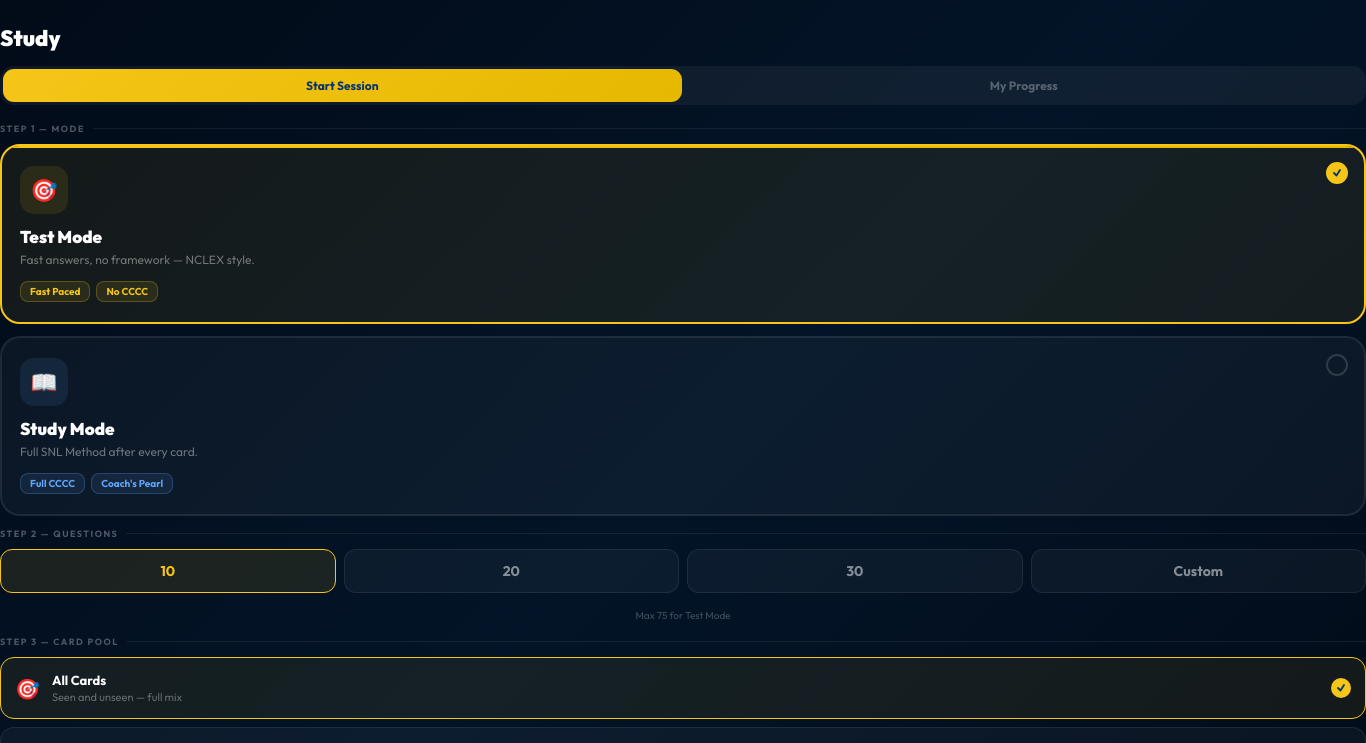
it: StudyTab › switches to My Progress view on click
Click the button "My Progress" at (1024, 86), box top-left (684, 69), bottom-right (1363, 102)
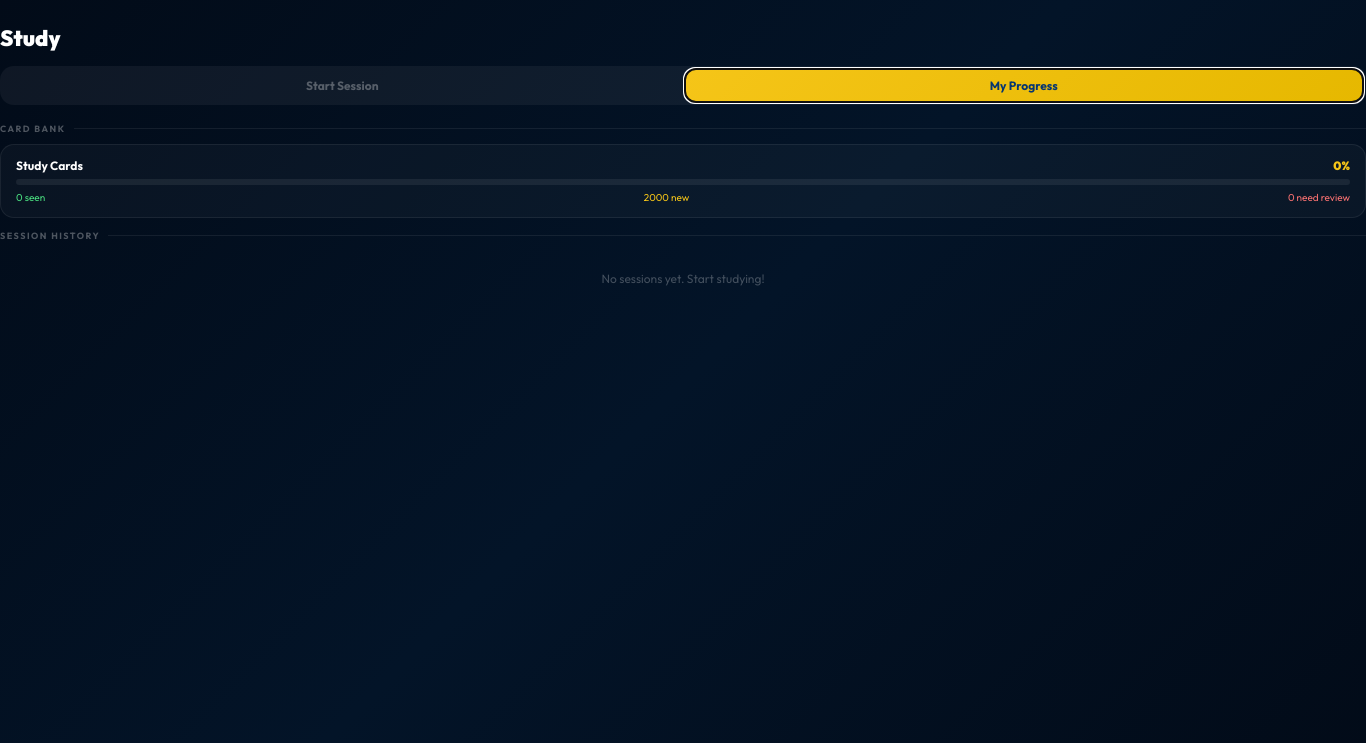
expect the text "Card Bank" is shown: met, box top-left (0, 123), bottom-right (66, 134)
expect the text "Session History" is shown: met, box top-left (0, 230), bottom-right (100, 241)
